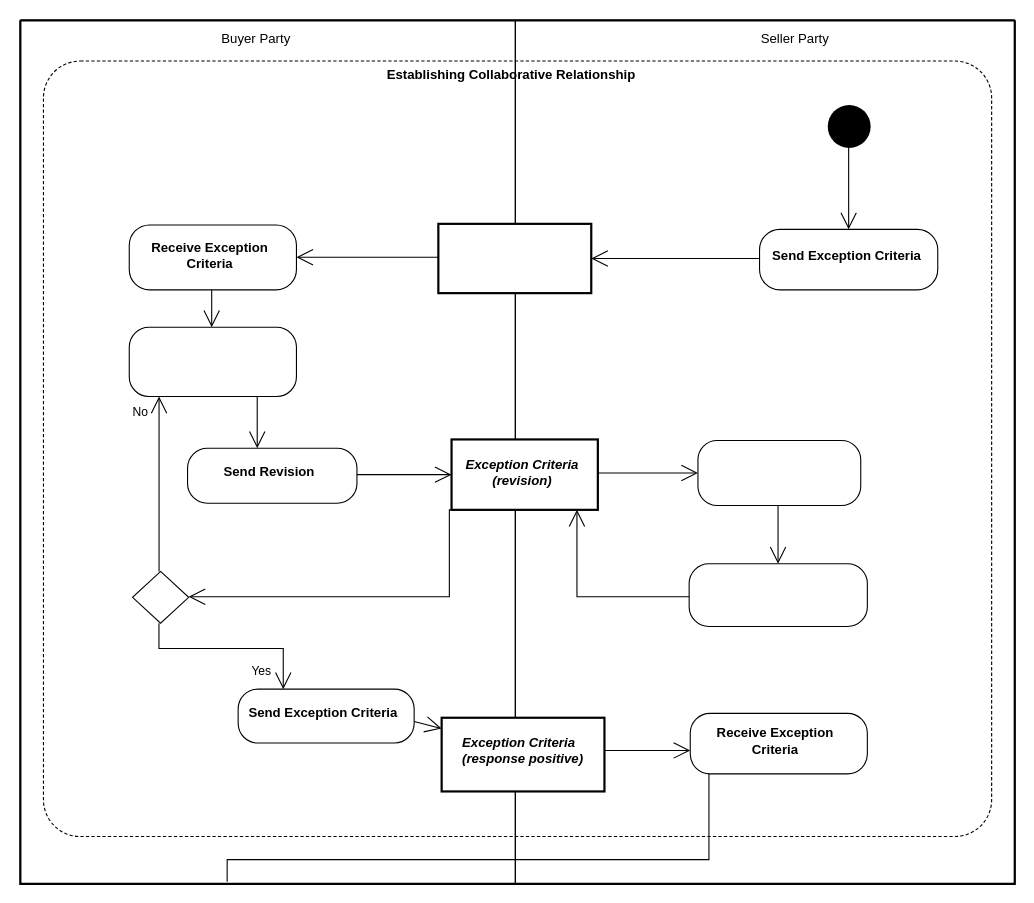
This 1034x903 diagram has some shape labels left out. Each missing label, with the centre of its shape:
Exception Criteria: the point at 514,258
Exception Criteria Accepted?: the point at 160,596
Receive Revision: the point at 779,472
Review and Resend Revision: the point at 777,594
Revise Exception Criteria: the point at 212,361
